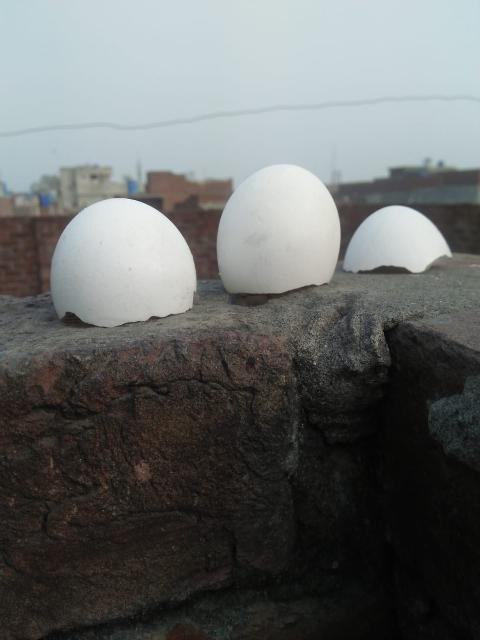Roto: (49, 196, 197, 328), (215, 162, 341, 295), (342, 204, 452, 274)
